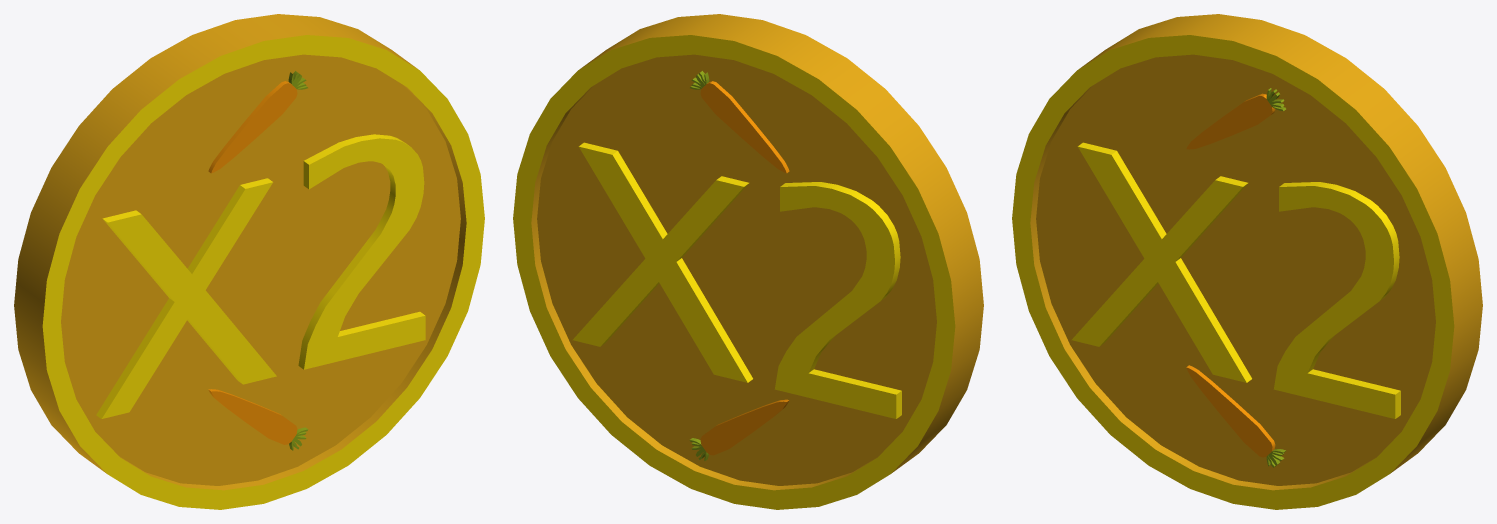
Rendered from Multiplier.fbx.
The picture shows the model from 3 angles, left to right: view 1: azimuth 30°, elevation 25°; view 2: azimuth 150°, elevation 25°; view 3: azimuth 330°, elevation 25°; orthographic projection.
Visible parts, largest first — view 1: Circle; view 2: Circle; view 3: Circle.
Boxes of the visible parts, bbox=[...] form: Circle: bbox=[14, 14, 484, 509]; Circle: bbox=[513, 14, 983, 509]; Circle: bbox=[1012, 14, 1482, 509].
Size of the model in its own units: 137 by 137 by 15.4.
